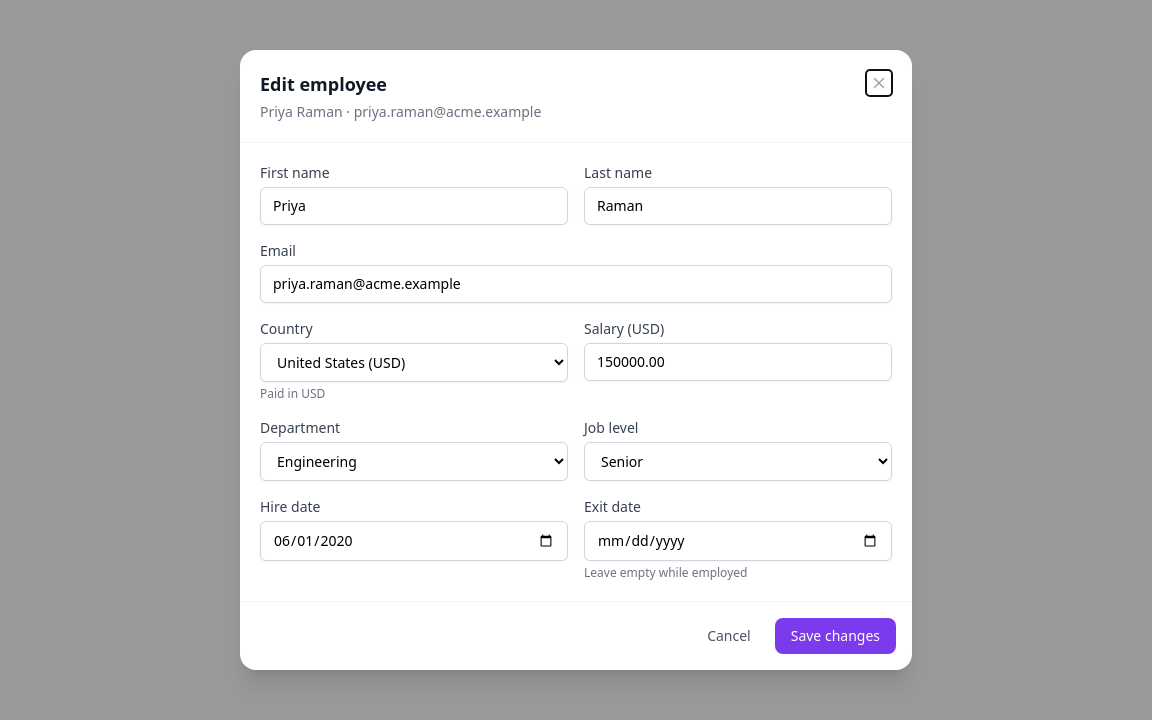
validation happens before the request › rejects decimals on a currency that has none
Select "Japan (JPY)" in the dropdown labelled "Country" at point(414, 362), box [260, 343, 568, 382]
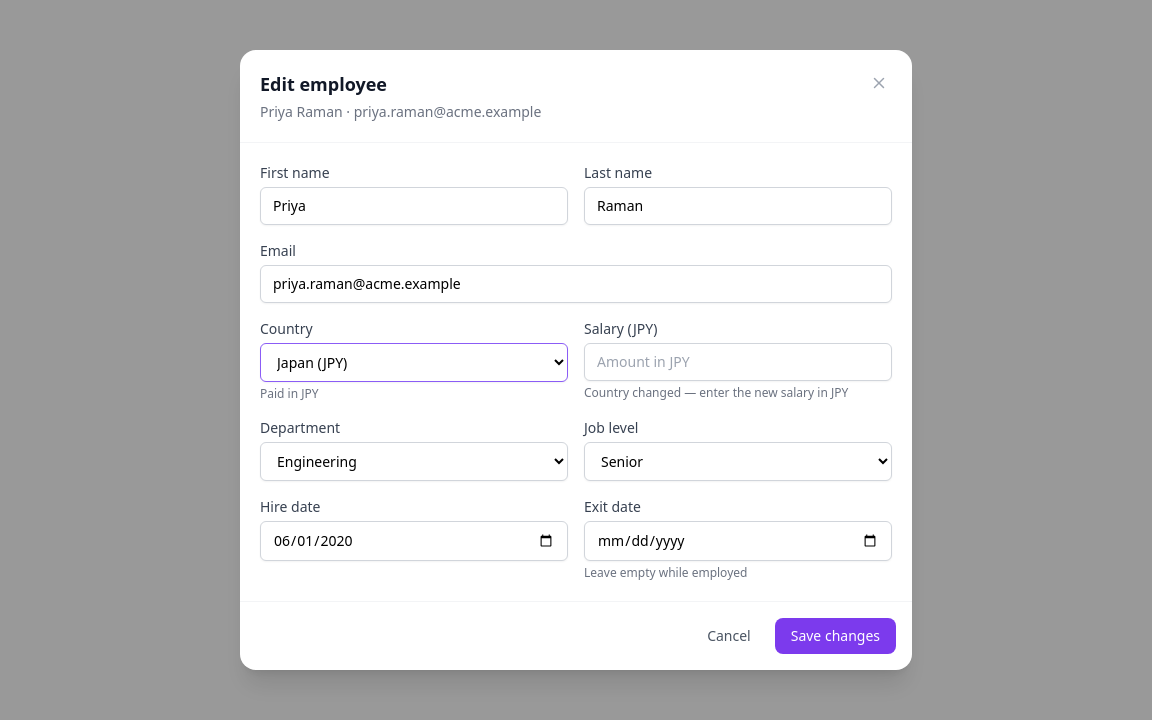
Type "9000000.55" into the field labelled "Salary (JPY)".
click(738, 362); type("9000000.55")  # box [584, 343, 892, 381]
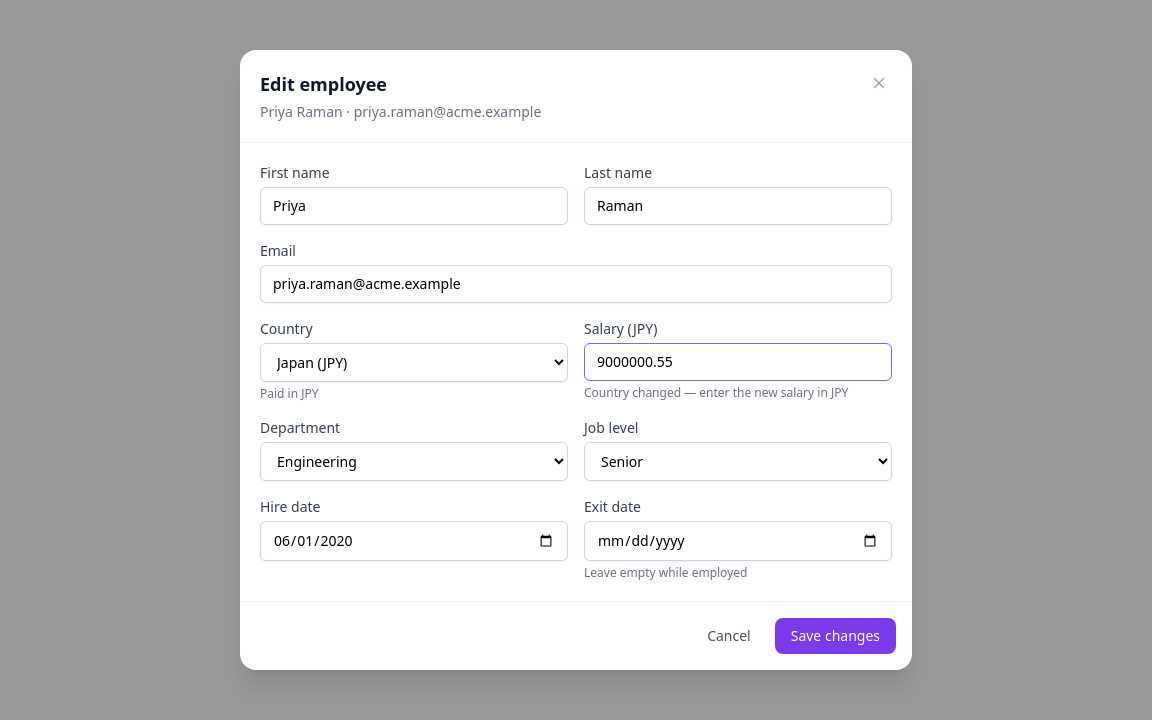
Click the button "Save changes".
click(835, 636)  # box [775, 618, 896, 654]
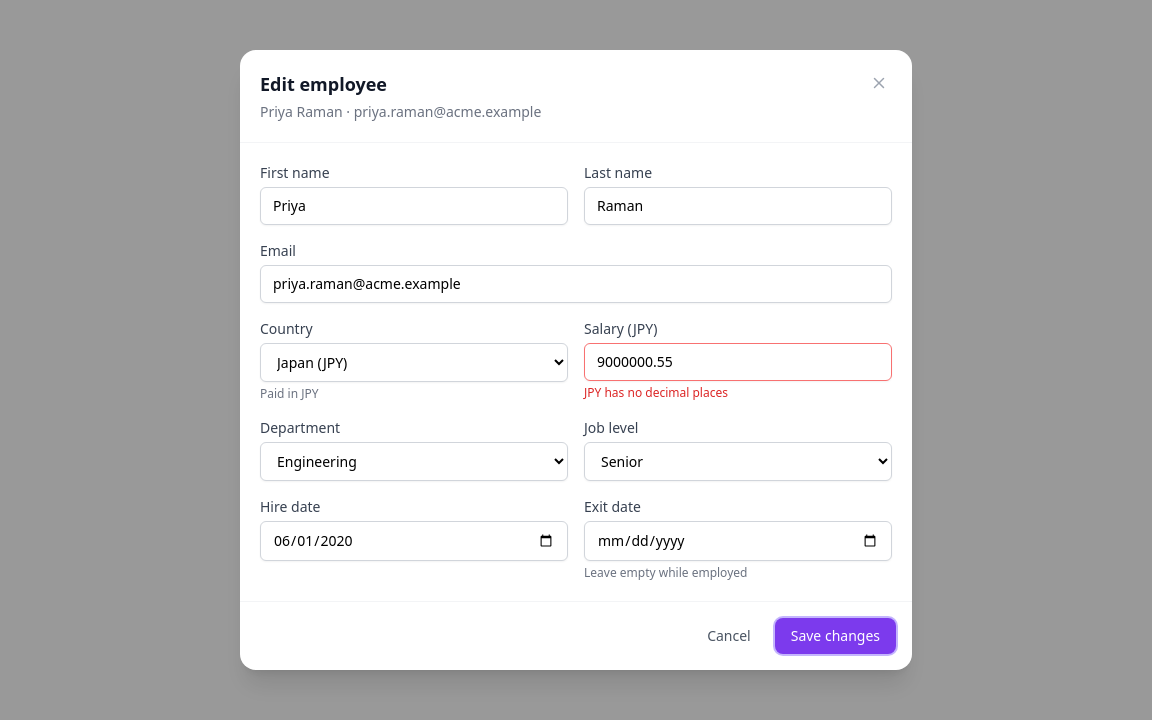
Result: the text "JPY has no decimal places" is shown at [584, 384, 728, 401]
